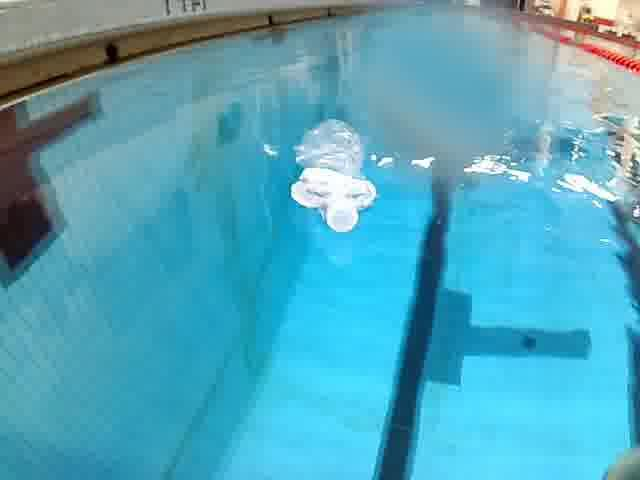Bottle: (282, 117, 385, 238)
